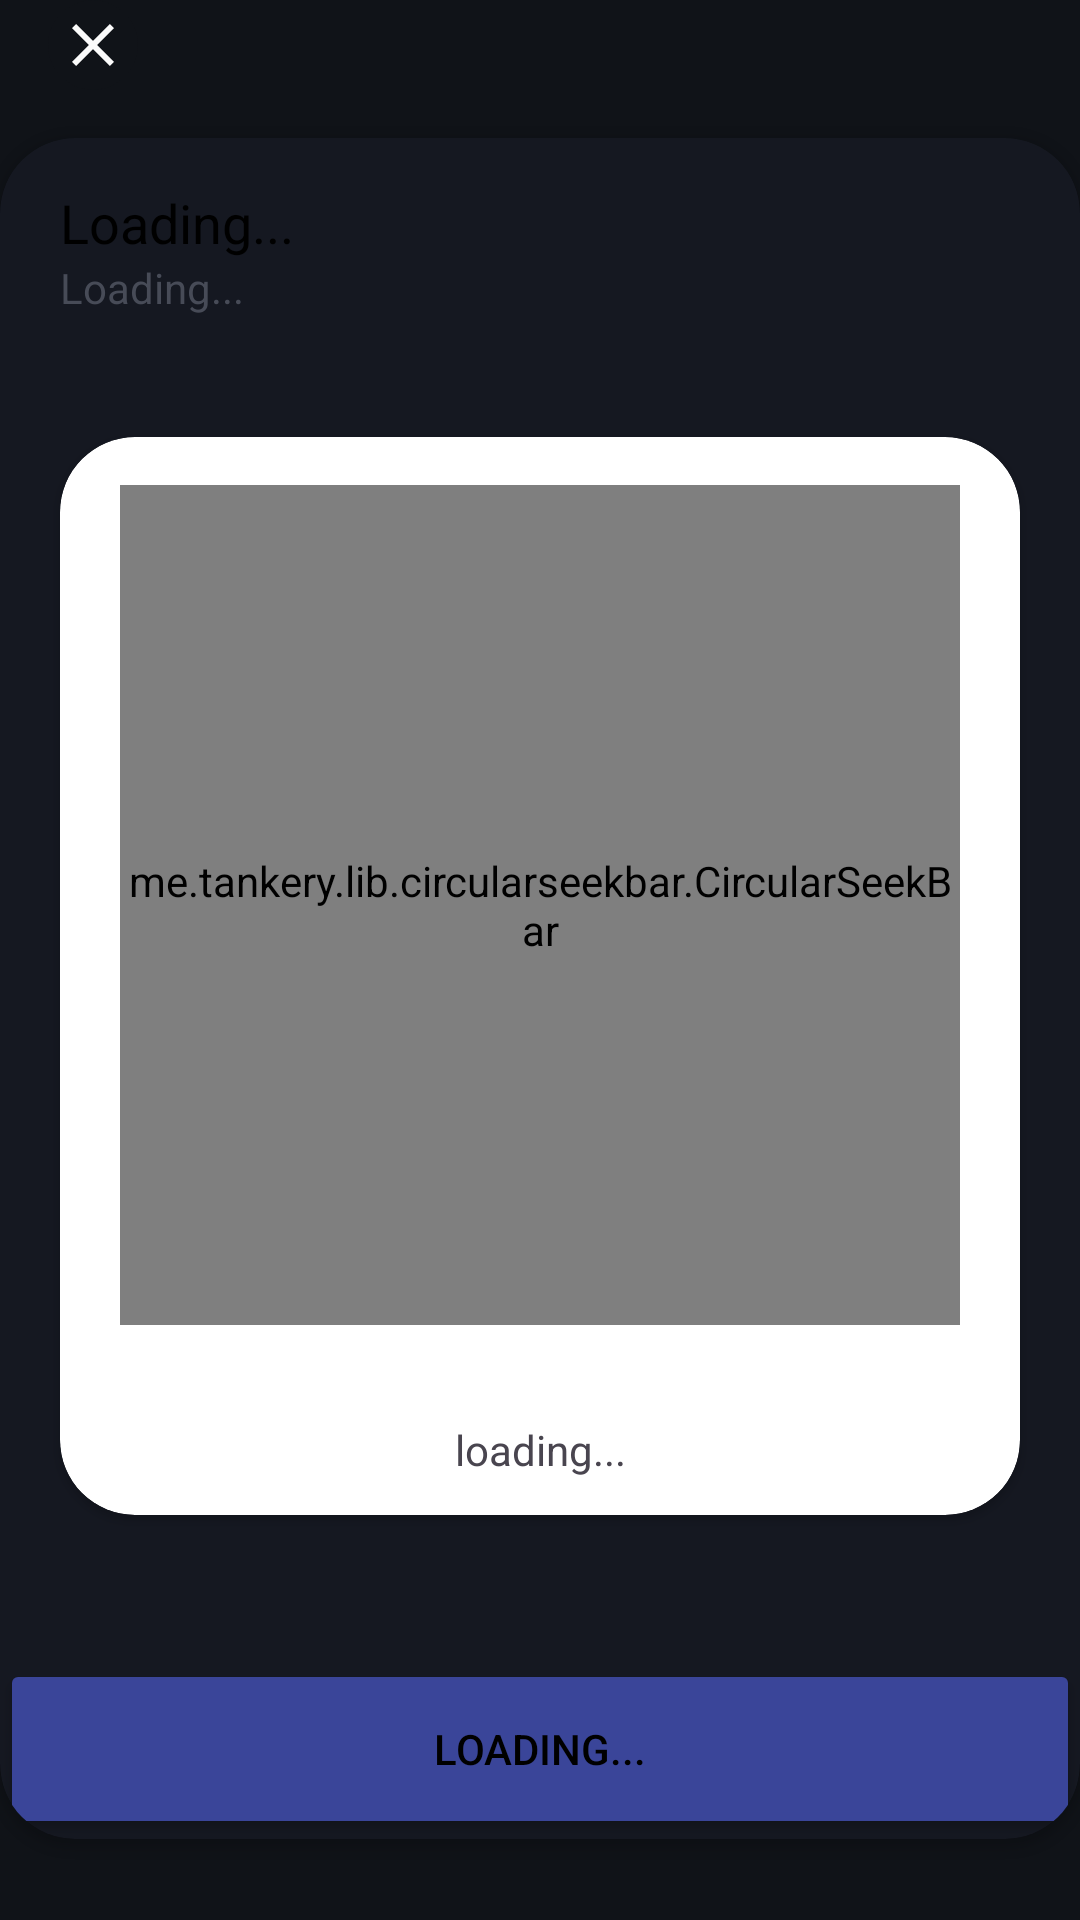

Where to tap for icons on this 1080w x 1920h app screen, as (x=x, y=y):
close: (x=93, y=45)
